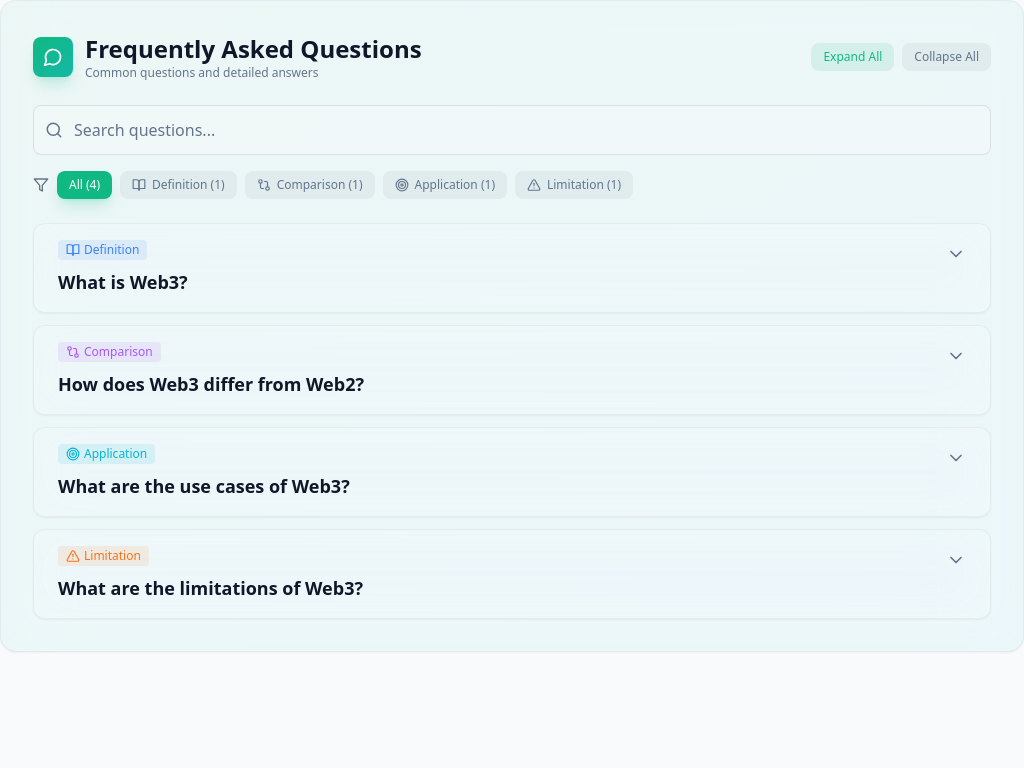
QASection Component › should display related concepts when answer is expanded
Click the button "Definition What is Web3?": (103, 250) [34, 224, 990, 312]
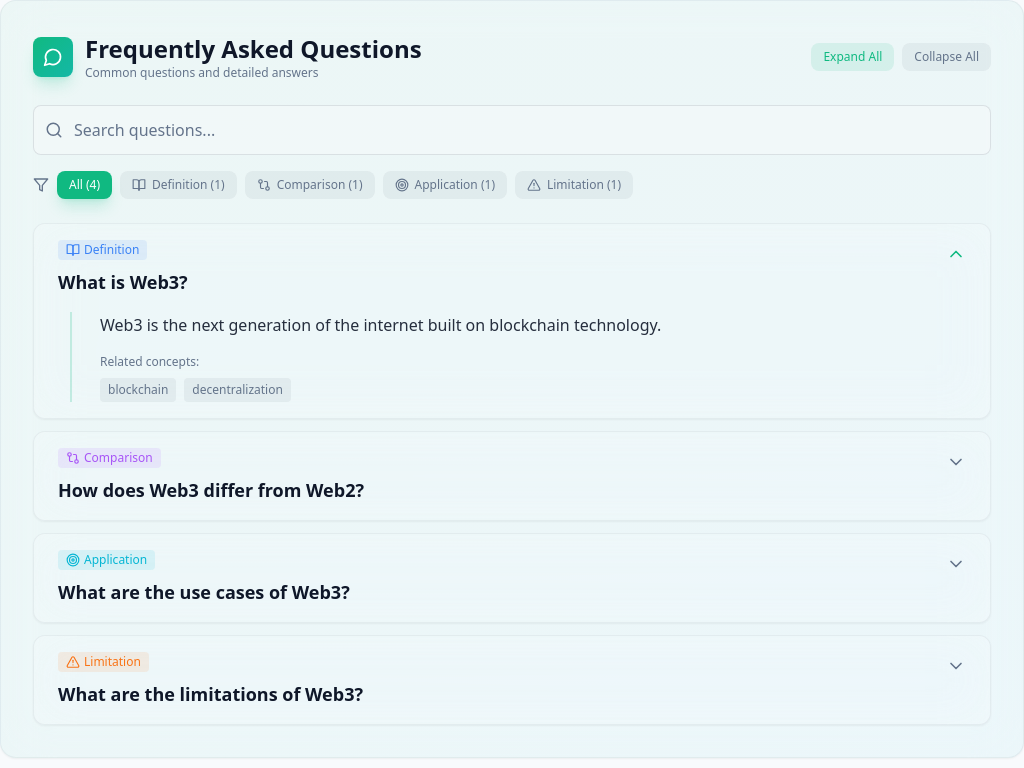
Check: the text "blockchain" is shown, box [100, 378, 176, 402]
Check: the text "decentralization" is shown, box [184, 378, 291, 402]
